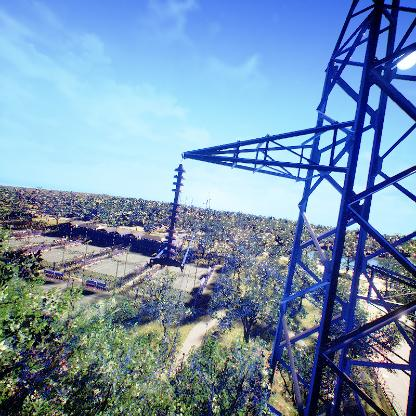insulator: (162, 165, 188, 257)
